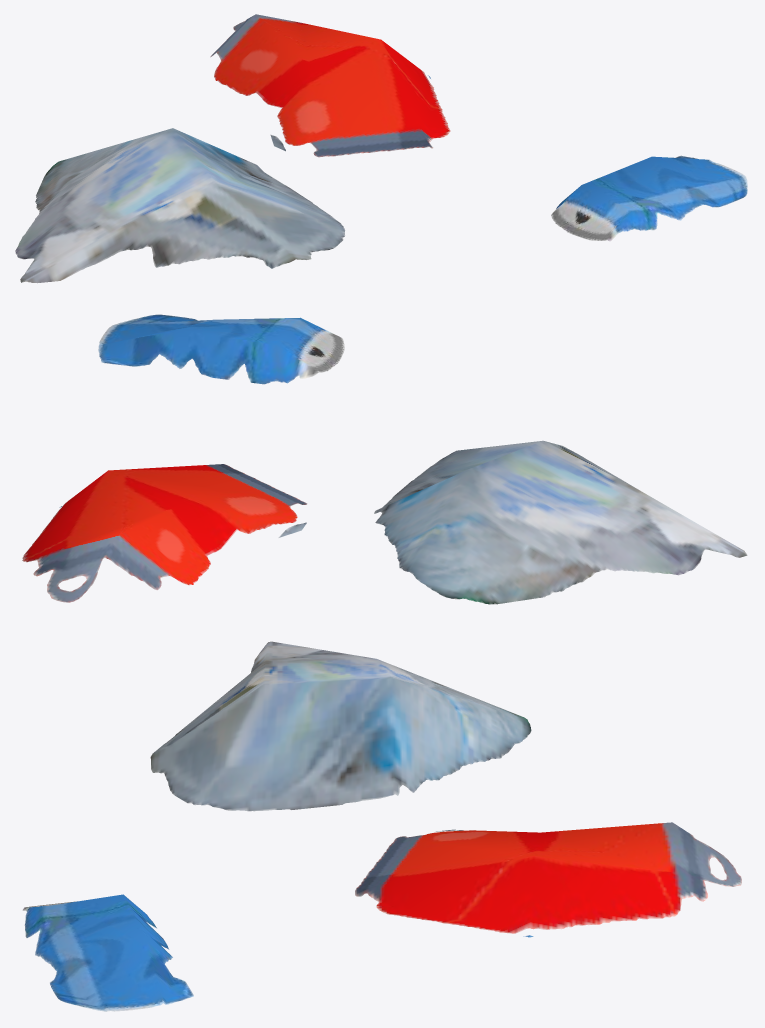
Rendered from obj_trash.fbx.
3 renders of one model, top to bottom at view 1: azimuth 30°, elevation 25°; view 2: azimuth 150°, elevation 25°; view 3: azimuth 270°, elevation 25°, orthographic. The views are drawn at different scales.
Visible parts, largest first — view 1: obj_trash; view 2: obj_trash; view 3: obj_trash.
Boxes of the visible parts, bbox=[...] form: obj_trash: bbox=[15, 14, 747, 283]; obj_trash: bbox=[22, 314, 747, 604]; obj_trash: bbox=[22, 641, 741, 1011].
Size of the model in its own units: 2.17 by 0.2173 by 1.82.
1 material, 1 textured.
